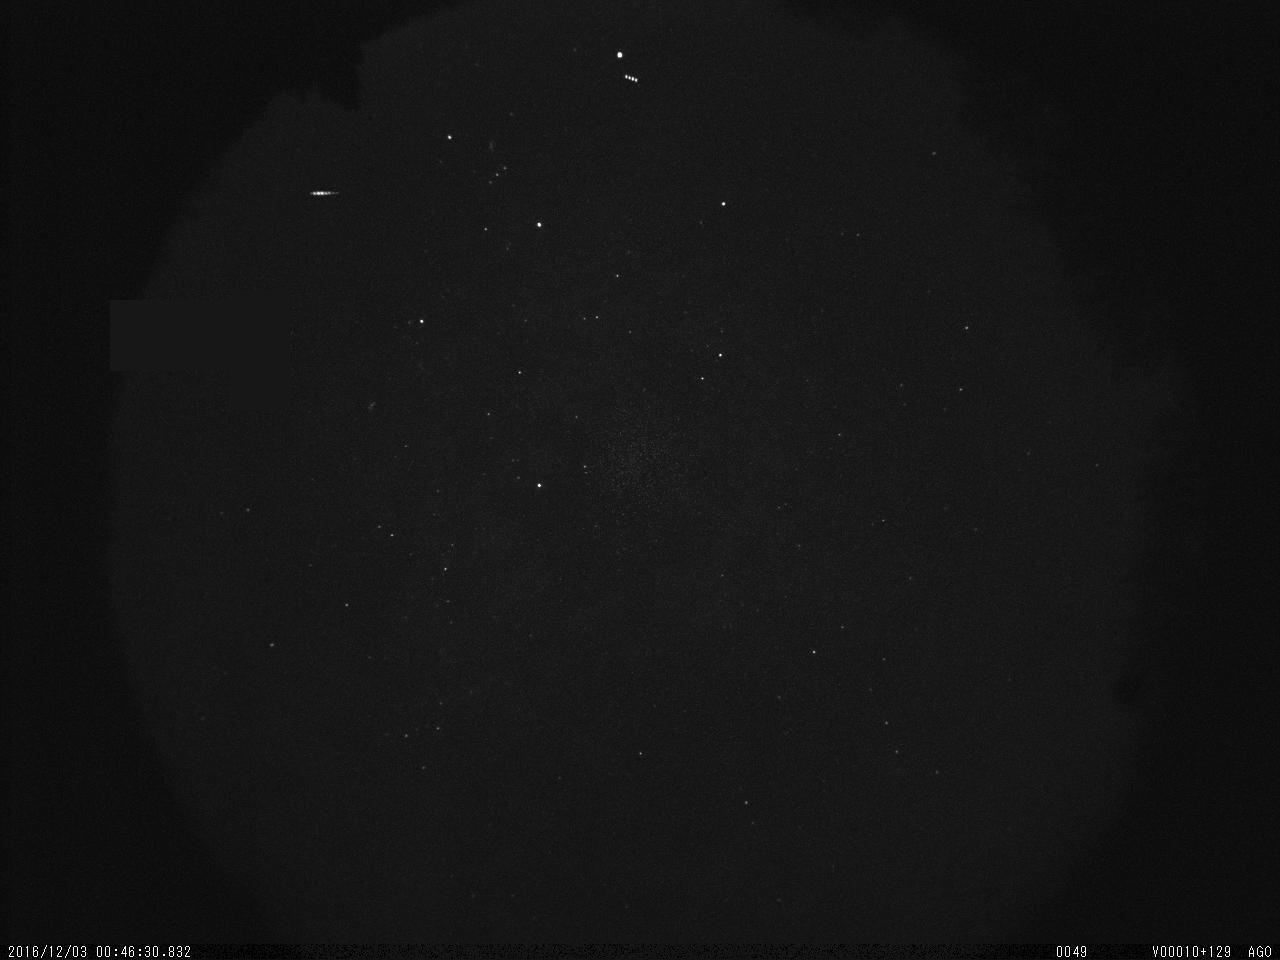Meteor: (307, 185, 338, 198)
